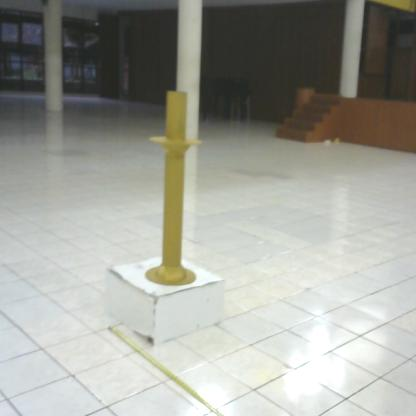pole: (142, 82, 211, 296)
